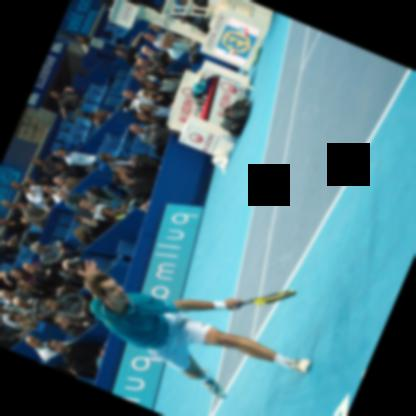backpack: (219, 97, 250, 135)
